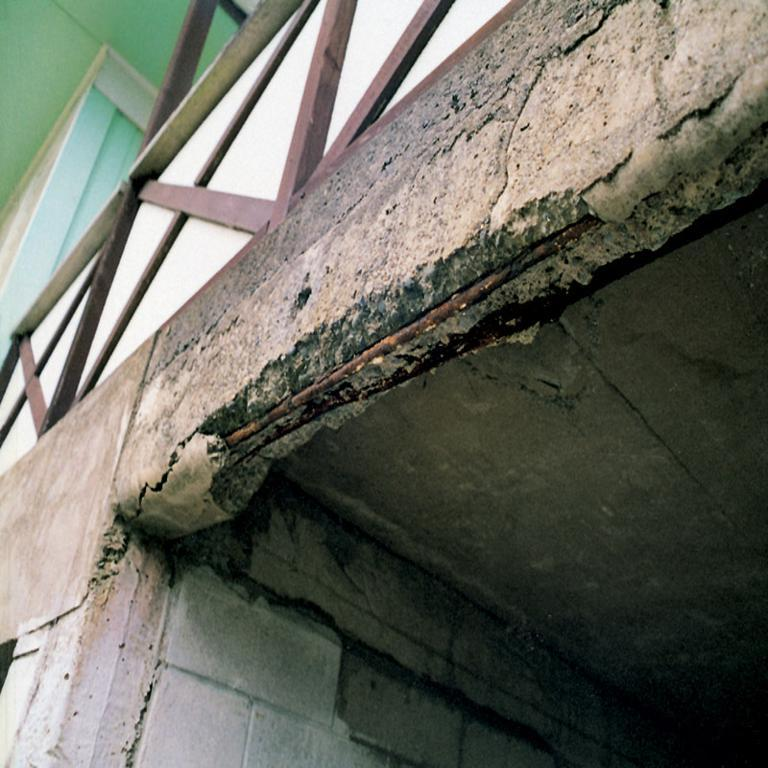exposed_rebar: (225, 219, 597, 447)
spalling: (200, 120, 768, 514)
